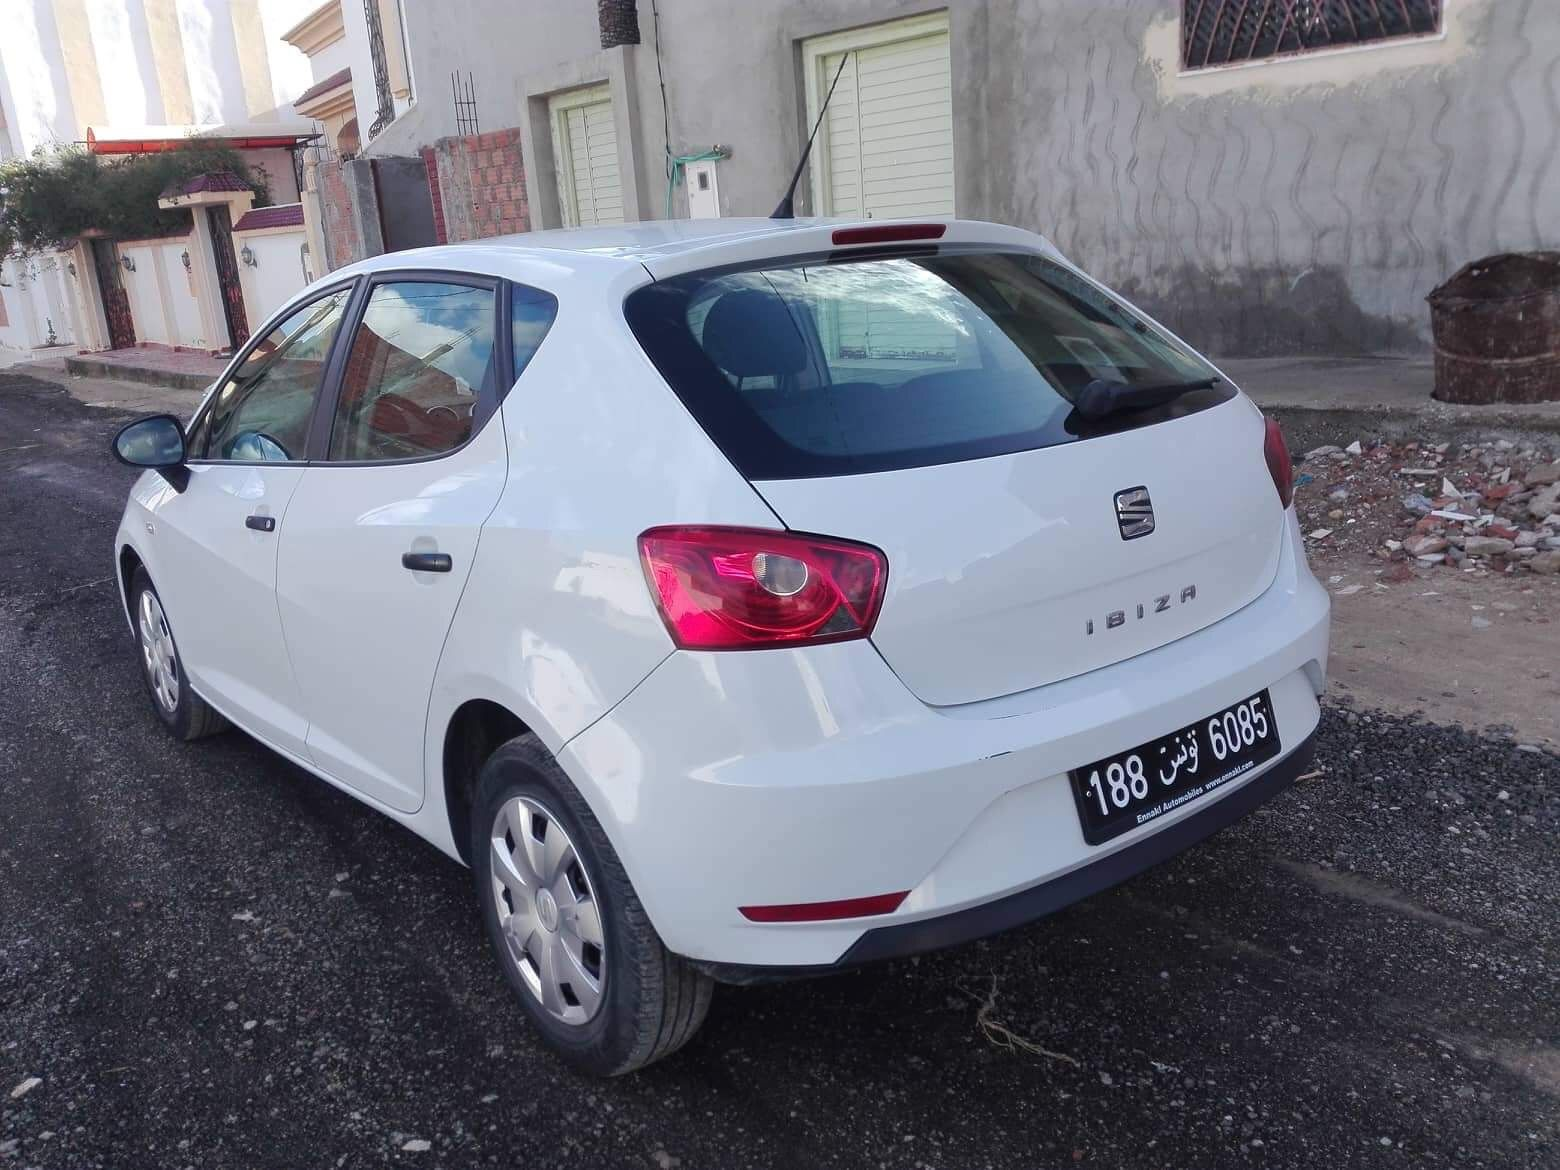LP: (1072, 683, 1276, 852)
